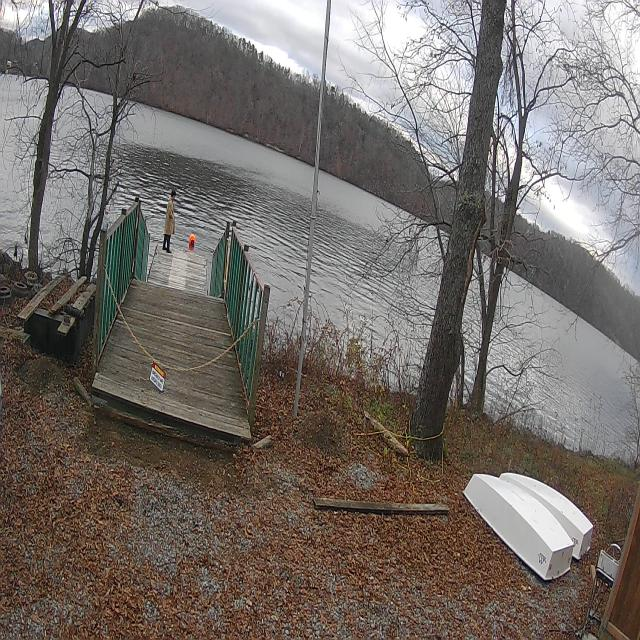Buoy: (187, 230, 197, 248)
